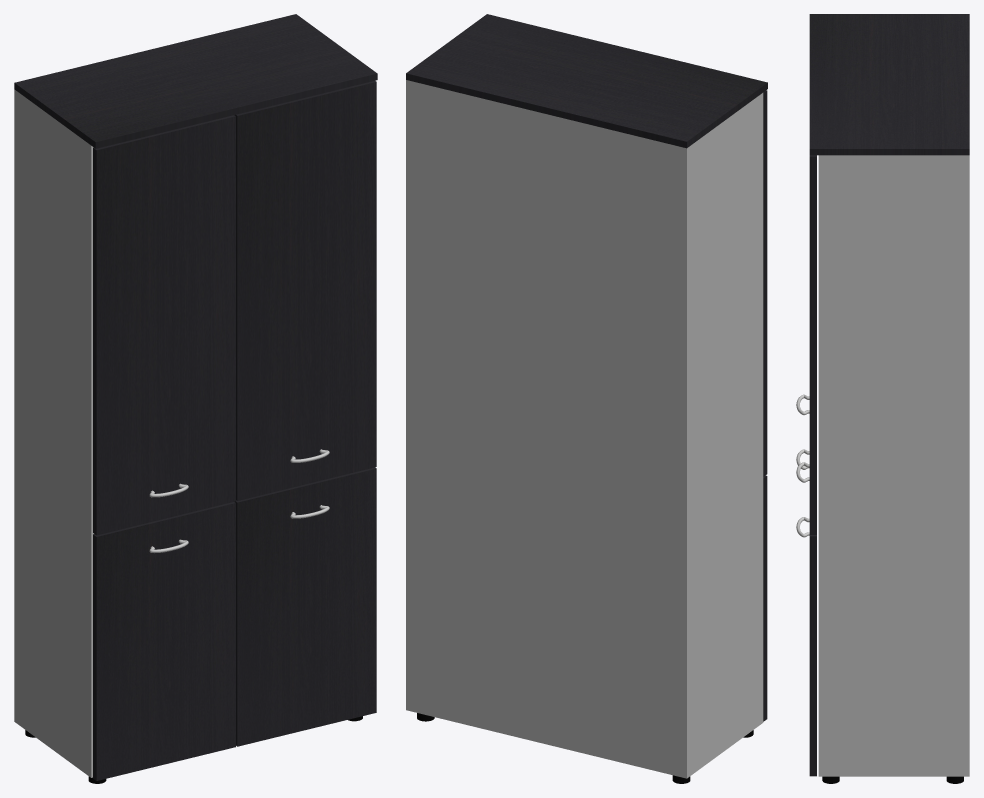
File: sweethome3d-lucapresidente-bookcase-90x198-23.glb
3 views of the same model, side by side, from view 1: azimuth 30°, elevation 25°; view 2: azimuth 150°, elevation 25°; view 3: azimuth 270°, elevation 25° (orthographic).
Visible parts, largest first — view 1: Box42_13, Box38_2, Box43_14, Box41_11, Box39_6, Box40_9; view 2: Box43_14, Box40_9, Box42_13, Box41_11; view 3: Box43_14, Box40_9, Box38_2, Box39_6.
Part boxes in pixels (x1,y1,x2,y2): Box42_13: (93, 115, 235, 535); Box38_2: (234, 81, 376, 500); Box43_14: (14, 89, 93, 777); Box41_11: (93, 502, 235, 780); Box39_6: (234, 467, 376, 746); Box40_9: (14, 14, 377, 148); Box43_14: (406, 80, 763, 778); Box40_9: (406, 14, 767, 148); Box42_13: (763, 90, 767, 476); Box41_11: (763, 475, 767, 721); Box43_14: (818, 155, 969, 776); Box40_9: (809, 14, 969, 155); Box38_2: (809, 155, 816, 534); Box39_6: (809, 535, 816, 776).
Bounding box in the file's own units: 90 × 198 × 48.75.
Materials: 3 (1 with a texture image).
